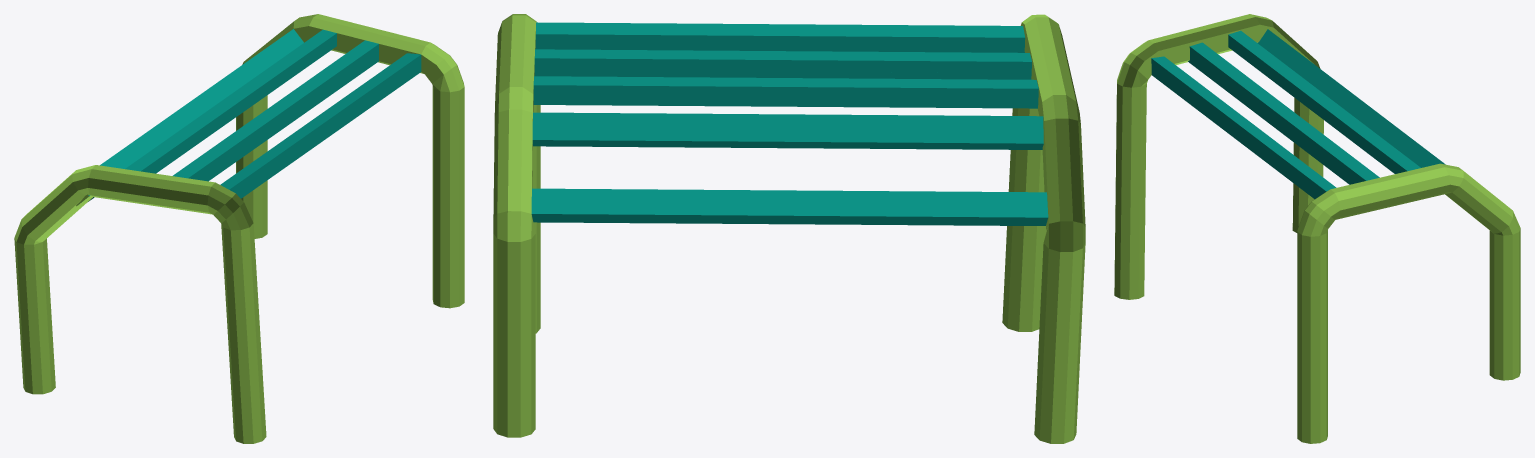
File: Monkeybars.glb
3 views of the same model, side by side, from view 1: azimuth 30°, elevation 25°; view 2: azimuth 150°, elevation 25°; view 3: azimuth 270°, elevation 25° (orthographic). The views are drawn at different scales.
Parts seen in each view (by area): view 1: group172940458, group45186796; view 2: group172940458, group45186796; view 3: group172940458, group45186796.
Boxes of the visible parts, left/top/right/bottom form: group172940458: left=76, top=14, right=464, bottom=308; group45186796: left=14, top=165, right=266, bottom=443; group172940458: left=493, top=14, right=1048, bottom=437; group45186796: left=1002, top=14, right=1085, bottom=443; group172940458: left=1151, top=29, right=1520, bottom=443; group45186796: left=1114, top=14, right=1323, bottom=299.
Bounding box in the file's own units: 1.11 × 0.6055 × 0.9053.
